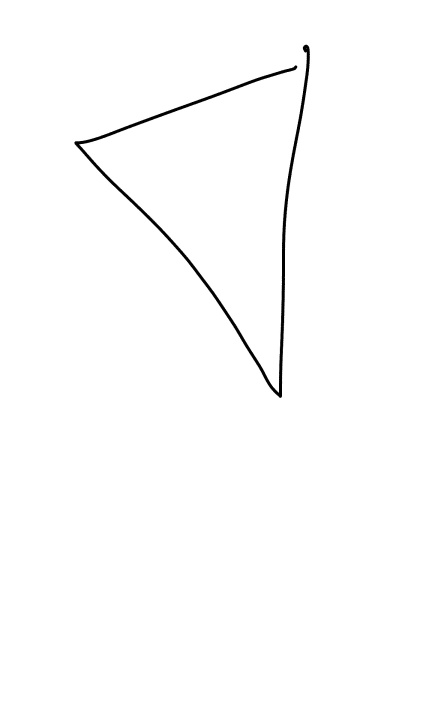Triangle: (70, 42, 323, 402)
